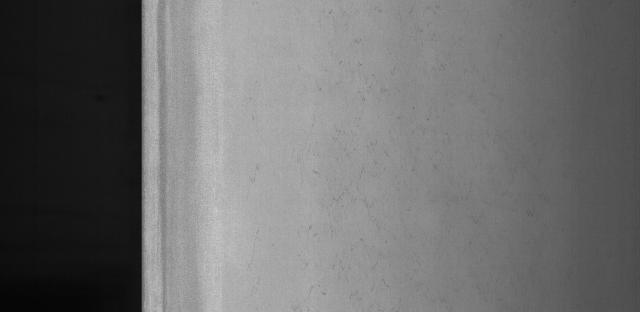silk_spot: (308, 18, 440, 228)
